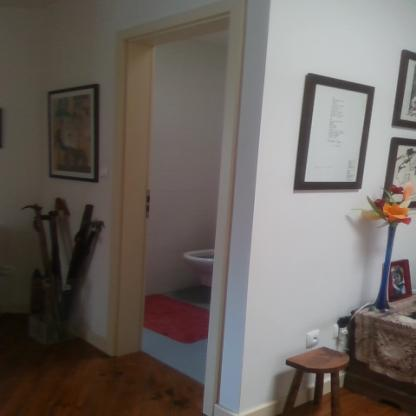open: (104, 6, 246, 416)
